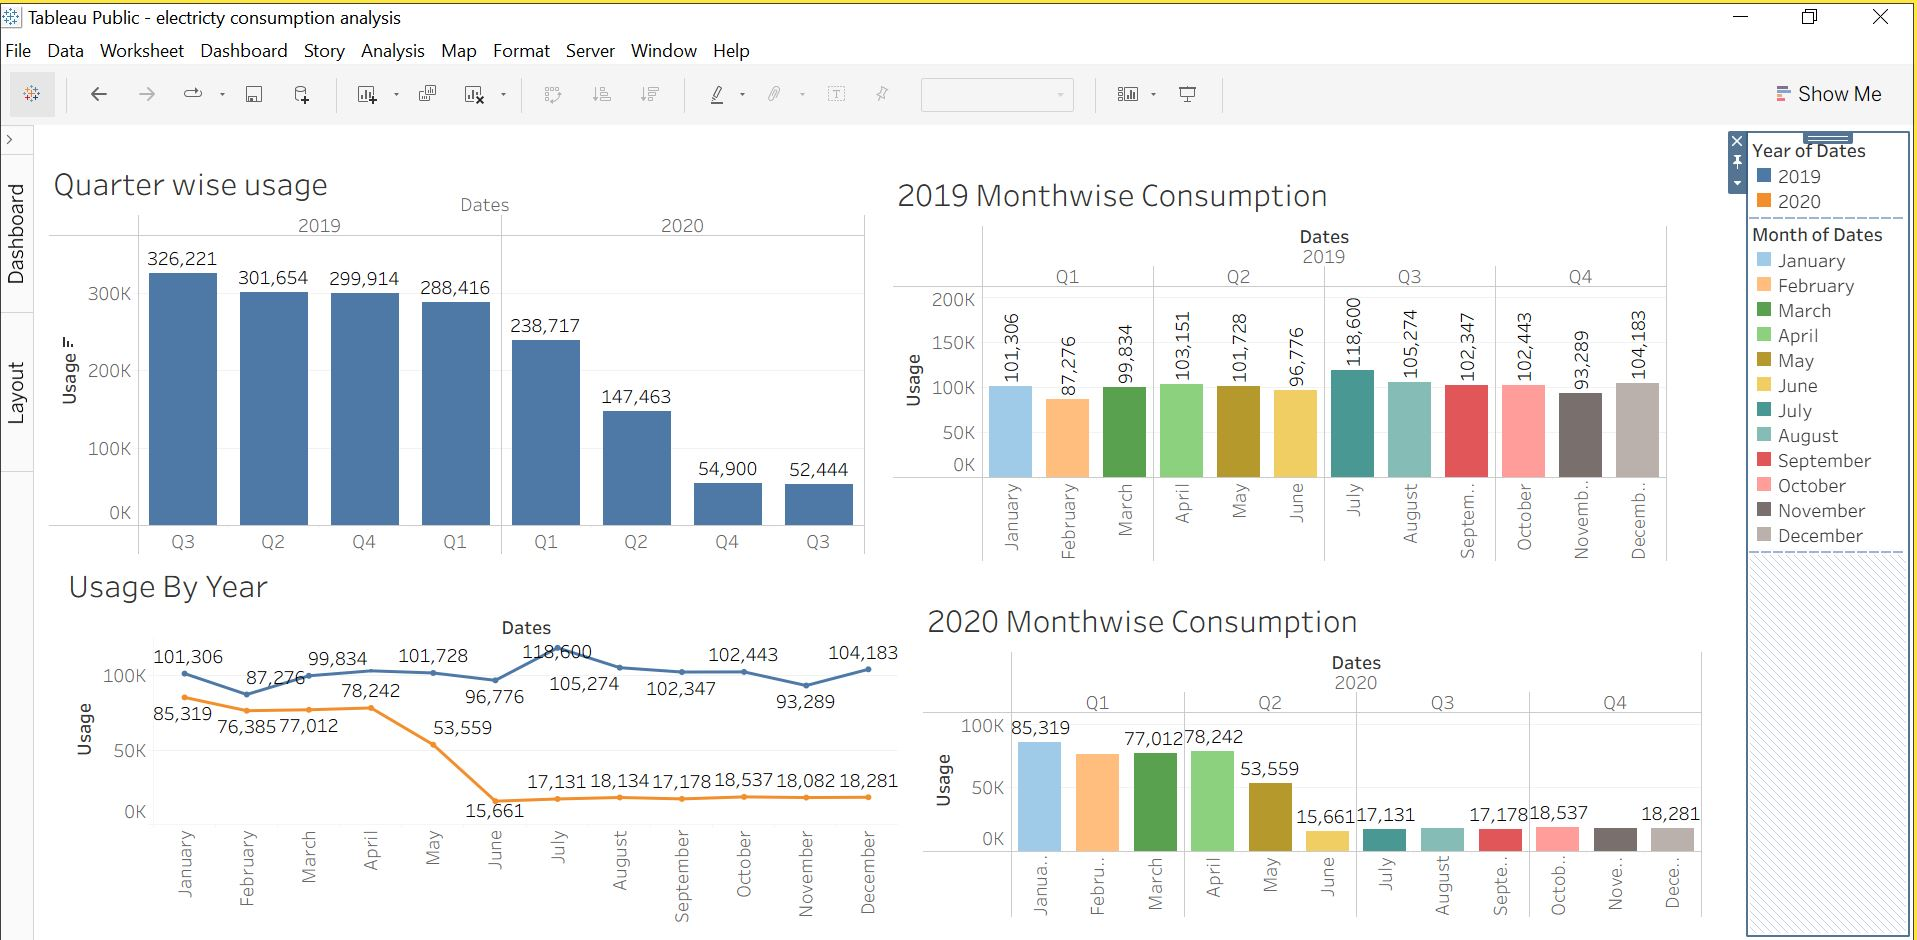

What the dashboard file says about the page in this screenshot:
{"tool":"tableau","page":{"name":"Dashboard 3","canvas":[1000,1000],"units":"permille","ordinal":2},"visuals":[{"type":"legend","title":"Usage By Year","param":"[federated.0nzlmpl1kv5g8j0zk3tzo1f6s7qc].[yr:Dates:ok]","box":[910.7,9.8,85,102.7]},{"type":"worksheet","title":"Quarter wise usage","mark":"Bar","rows":["Usage"],"cols":["Dates","Dates"],"box":[7.9,40.3,433.6,485.3]},{"type":"worksheet","title":"2019 Monthwise Consumption","mark":"Bar","rows":["Usage"],"cols":["Dates","Dates","Dates"],"box":[456.5,53.8,411.4,480.4]},{"type":"text","box":[224.3,72.1,112.5,48.9]},{"type":"legend","title":"2019 Monthwise Consumption","param":"[federated.0nzlmpl1kv5g8j0zk3tzo1f6s7qc].[mn:Dates:ok]","box":[910.7,112.5,85,408.3]},{"type":"worksheet","title":"Usage By Year","mark":"Line","rows":["Usage"],"cols":["Dates"],"box":[15.7,531.8,443.4,445]},{"type":"worksheet","title":"2020 Monthwise Consumption","mark":"Bar","rows":["Usage"],"cols":["Dates","Dates","Dates"],"box":[472.2,574.6,414,396.1]}]}

Visuals, with their boxes on the dashboard's canvas, which has no fixed pixel size, in thousandths of its width and height (x1, y1, x2, y2). These are canvas units, not pixel positions in the 1917x940 screenshot, which may show the page scaled, cropped or inside an application window:
"Usage By Year" legend: l=911, t=10, r=996, b=112
"Quarter wise usage" worksheet (Bar marks): l=8, t=40, r=442, b=526
"2019 Monthwise Consumption" worksheet (Bar marks): l=456, t=54, r=868, b=534
text: l=224, t=72, r=337, b=121
"2019 Monthwise Consumption" legend: l=911, t=112, r=996, b=521
"Usage By Year" worksheet (Line marks): l=16, t=532, r=459, b=977
"2020 Monthwise Consumption" worksheet (Bar marks): l=472, t=575, r=886, b=971
